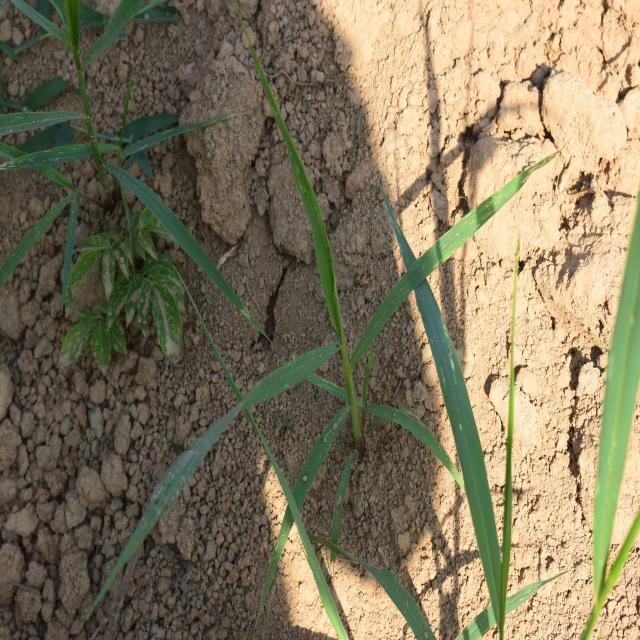green_foxtail: (216, 116, 462, 486), (0, 1, 197, 224)
